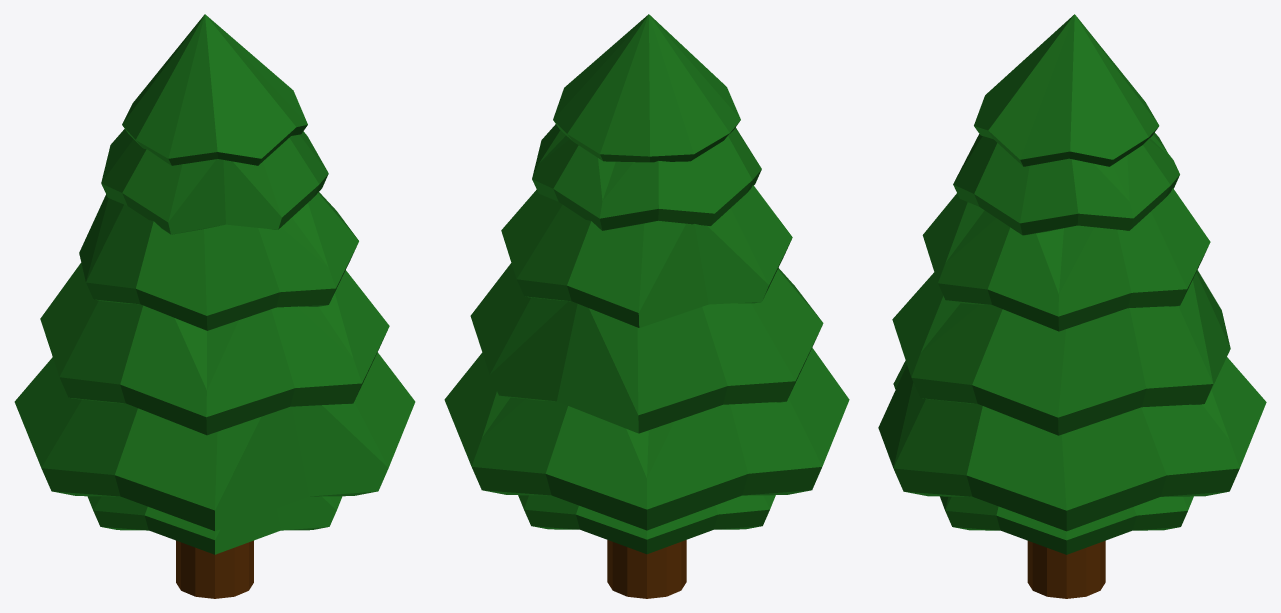
Rendered from lp_tree1(Scaled)Coloured.fbx.
3 views of the same model, side by side, from view 1: azimuth 30°, elevation 25°; view 2: azimuth 150°, elevation 25°; view 3: azimuth 270°, elevation 25° (orthographic).
Visible parts, largest first — view 1: Torus.000, Torus.002, Torus.003, Cone, Torus.004, Torus.001, Cylinder; view 2: Torus.000, Torus.002, Torus.003, Cone, Torus.004, Torus.001, Cylinder; view 3: Torus.000, Torus.002, Torus.003, Cone, Torus.004, Torus.001, Cylinder.
Boxes of the visible parts, x1,y1,x2,y2 form: Torus.000: (14,352,415,530); Torus.002: (40,263,389,435); Torus.003: (79,192,358,330); Cone: (122,14,307,165); Torus.004: (101,129,328,234); Torus.001: (87,496,342,554); Cylinder: (176,540,253,598); Torus.000: (444,348,849,530); Torus.002: (470,263,823,433); Torus.003: (501,185,792,327); Cone: (553,14,740,162); Torus.004: (532,124,761,230); Torus.001: (518,495,775,554); Cylinder: (607,540,686,598); Torus.000: (878,357,1266,531); Torus.002: (892,270,1230,435); Torus.003: (922,188,1210,331); Cone: (974,14,1159,166); Torus.004: (953,132,1179,235); Torus.001: (940,496,1193,554); Cylinder: (1027,540,1105,598).
Size of the model in its own units: 366 by 571 by 355.
